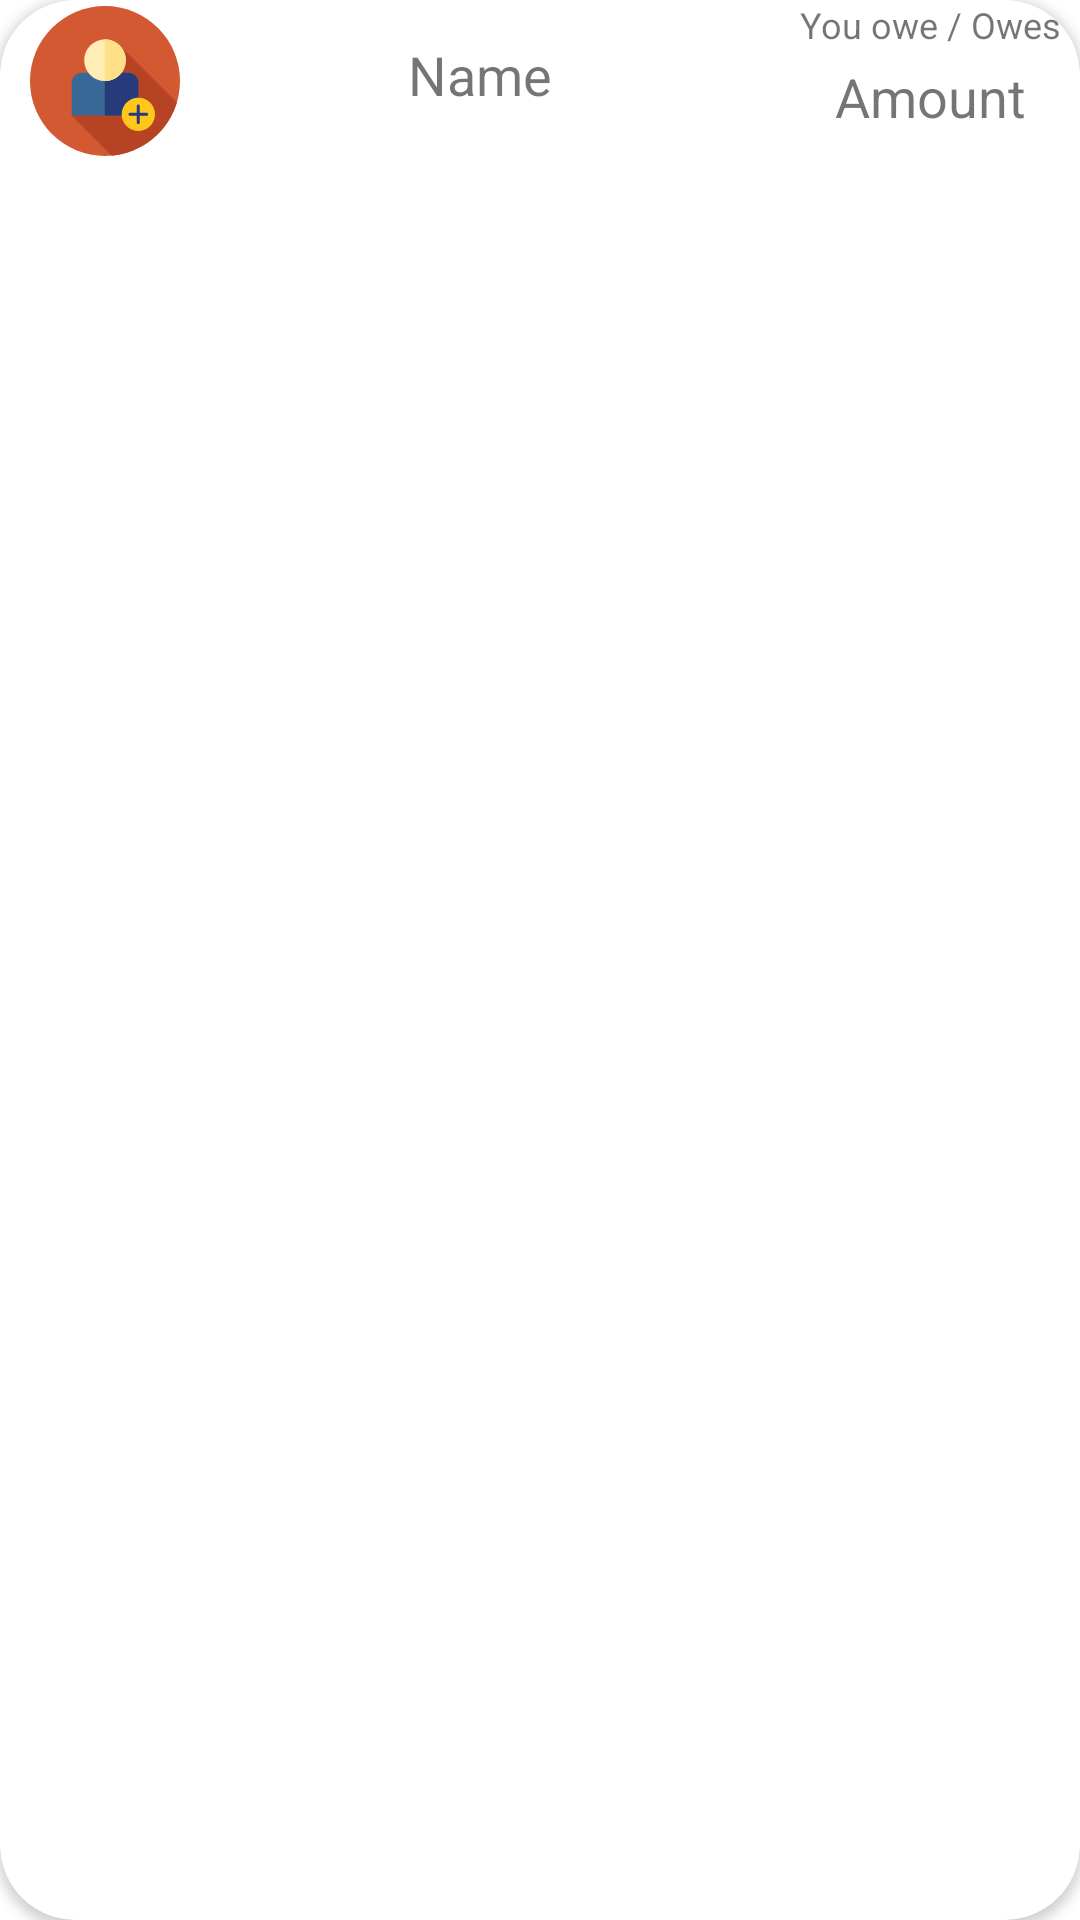

Where to tap for icons on this 1080px x 1920px app screen, as (x=x, y=y):
profile: (x=105, y=81)
